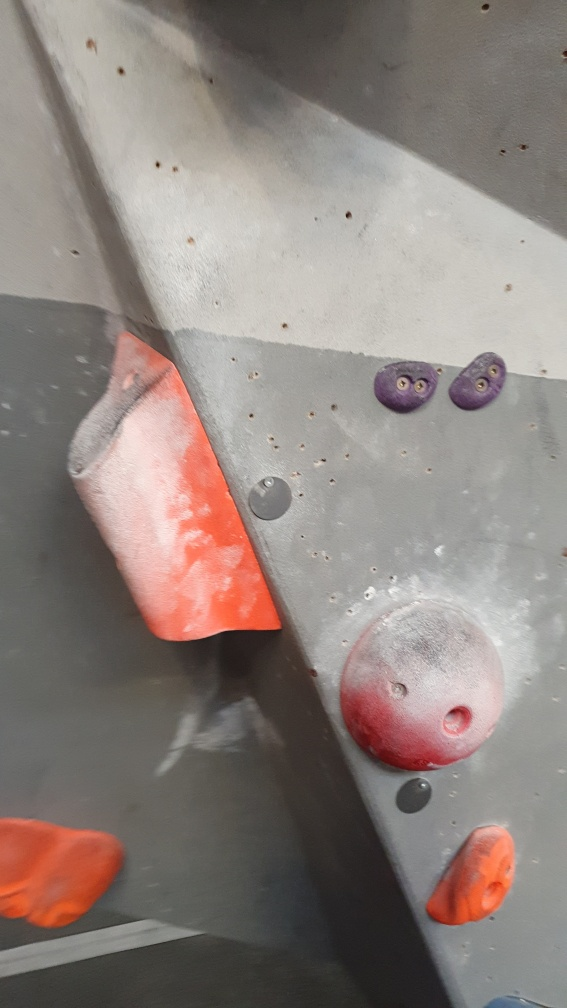Hand Start: (244, 471, 297, 527), (390, 773, 440, 822)
Pinch: (63, 329, 286, 648)
Sloper: (336, 594, 508, 769)
